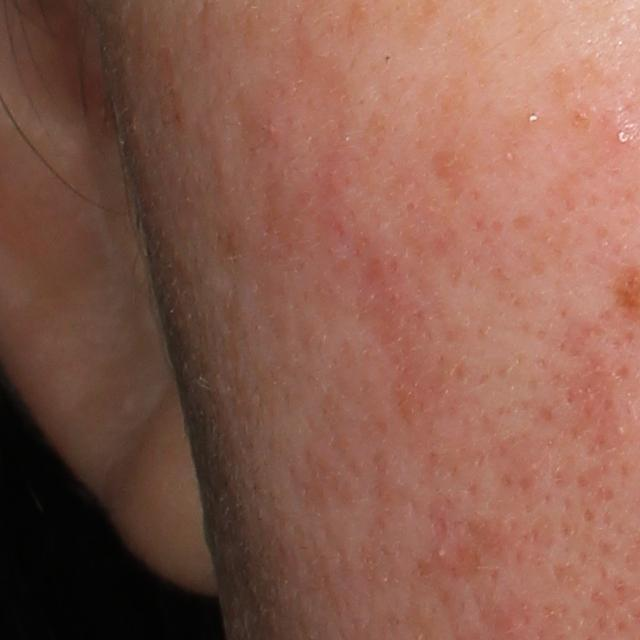comedo: (432, 543, 449, 562)
